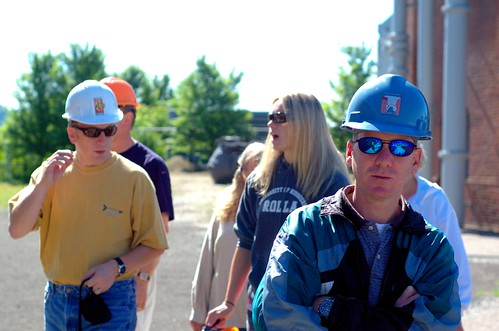person hardhat: (267, 75, 464, 331), (8, 81, 161, 331), (98, 75, 174, 331)
